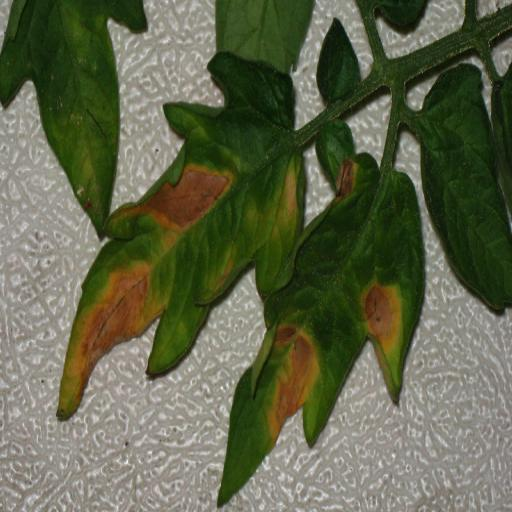disease_tomato: (54, 42, 304, 428), (214, 152, 430, 510)
